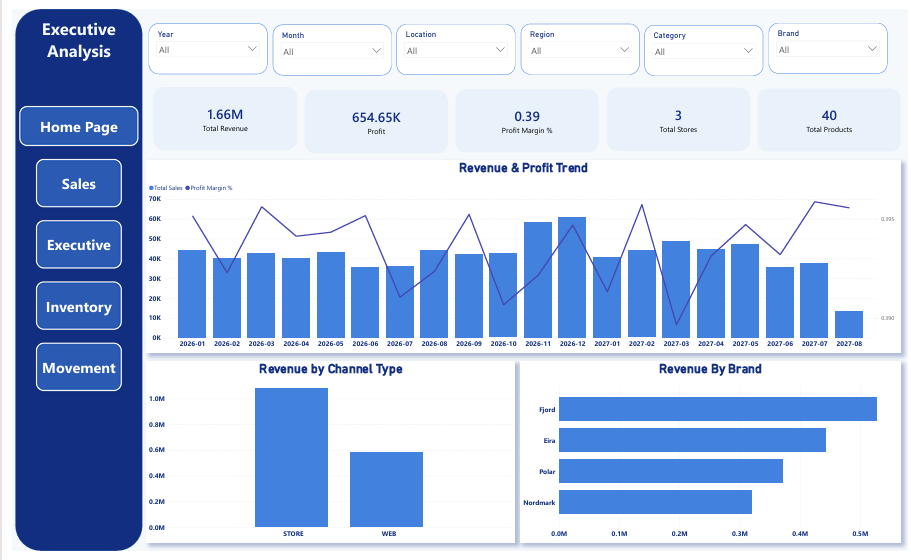

The dashboard page shown, as its layout file describes it:
{"tool":"powerbi","page":{"name":"Executive Analysis ","canvas":[2150,1300],"ordinal":2},"visuals":[{"type":"shape","box":[7.5,0,305,1300],"z":0},{"type":"lineClusteredColumnComboChart","title":"Revenue & Profit Trend","fields":{"Category":["dim_date.Year-Month"],"Y":["Measures_Table.Total Sales"],"Y2":["Measures_Table.Profit Margin %"]},"box":[322.5,362.5,1810,462.5],"z":1000},{"type":"clusteredColumnChart","title":"Revenue by Channel Type","fields":{"Category":["location_master.location_type"],"Y":["Measures_Table.Total Sales"]},"box":[322.5,845,885,435],"z":2000},{"type":"clusteredBarChart","title":"Revenue By Brand","fields":{"Category":["product_master.brand"],"Y":["Measures_Table.Total Revenue"]},"box":[1220,845,912.5,435],"z":3000},{"type":"group","id":"g1","title":"Group 1","box":[327.5,32.5,1772.5,127],"z":4000},{"type":"slicer","fields":{"Values":["location_master.region"]},"box":[1220,34.6,285,122],"z":5000,"group":"g1"},{"type":"group","id":"g2","title":"Group 2","box":[322.5,170,1827,193],"z":5000},{"type":"group","id":"g3","title":"Group 3","box":[7.5,222.5,305,702.5],"z":5001},{"type":"slicer","fields":{"Values":["location_master.location_type"]},"box":[922.5,35.4,285,122],"z":6000,"group":"g1"},{"type":"slicer","fields":{"Values":["product_master.category"]},"box":[1517.5,37.5,285,122],"z":7000,"group":"g1"},{"type":"actionButton","box":[7.5,222.5,305,115],"z":7000,"group":"g3"},{"type":"slicer","fields":{"Values":["product_master.brand"]},"box":[1815,32.5,285,122],"z":8000,"group":"g1"},{"type":"actionButton","box":[47.5,349.4,225,135],"z":8000,"group":"g3"},{"type":"slicer","fields":{"Values":["dim_date.Date.Variation.Date Hierarchy.Year"]},"box":[327.5,33.3,285,122.5],"z":9000,"group":"g1"},{"type":"actionButton","box":[47.5,643.1,225,135],"z":9000,"group":"g3"},{"type":"slicer","fields":{"Values":["dim_date.Date.Variation.Date Hierarchy.Month"]},"box":[625,36.2,285,122.5],"z":10000,"group":"g1"},{"type":"actionButton","box":[47.5,790,225,135],"z":10000,"group":"g3"},{"type":"cardVisual","fields":{"Data":["Measures_Table.Total Revenue"]},"box":[322.5,170,377.5,185],"z":11000,"group":"g2"},{"type":"actionButton","box":[47.5,496.3,225,135],"z":11000,"group":"g3"},{"type":"cardVisual","fields":{"Data":["Measures_Table.Profit"]},"box":[685.4,178,377,185],"z":12000,"group":"g2"},{"type":"cardVisual","fields":{"Data":["Measures_Table.Profit Margin %"]},"box":[1047.7,176,377,185],"z":13000,"group":"g2"},{"type":"cardVisual","fields":{"Data":["Measures_Table.Total Stores"]},"box":[1410.1,172,377,185],"z":14000,"group":"g2"},{"type":"cardVisual","fields":{"Data":["Measures_Table.Total Products"]},"box":[1772.5,174,377,185],"z":15000,"group":"g2"}]}

Visuals, with their boxes in screenshot pixels (x1, y1, x2, y2), scaled from the page's 2150x1300 canvas onto the 911x560 screenshot:
shape: x1=3 y1=0 x2=132 y2=559
"Revenue & Profit Trend" lineClusteredColumnComboChart: x1=137 y1=156 x2=904 y2=355
"Revenue by Channel Type" clusteredColumnChart: x1=137 y1=364 x2=512 y2=551
"Revenue By Brand" clusteredBarChart: x1=517 y1=364 x2=904 y2=551
"Group 1" group: x1=139 y1=14 x2=890 y2=69
slicer - location_master.region: x1=517 y1=15 x2=638 y2=67
"Group 2" group: x1=137 y1=73 x2=910 y2=156
"Group 3" group: x1=3 y1=96 x2=132 y2=398
slicer - location_master.location_type: x1=391 y1=15 x2=512 y2=68
slicer - product_master.category: x1=643 y1=16 x2=764 y2=69
actionButton: x1=3 y1=96 x2=132 y2=145
slicer - product_master.brand: x1=769 y1=14 x2=890 y2=67
actionButton: x1=20 y1=151 x2=115 y2=209
slicer - dim_date.Date.Variation.Date Hierarchy.Year: x1=139 y1=14 x2=260 y2=67
actionButton: x1=20 y1=277 x2=115 y2=335
slicer - dim_date.Date.Variation.Date Hierarchy.Month: x1=265 y1=16 x2=386 y2=68
actionButton: x1=20 y1=340 x2=115 y2=398
cardVisual - Measures_Table.Total Revenue: x1=137 y1=73 x2=297 y2=153
actionButton: x1=20 y1=214 x2=115 y2=272
cardVisual - Measures_Table.Profit: x1=290 y1=77 x2=450 y2=156
cardVisual - Measures_Table.Profit Margin %: x1=444 y1=76 x2=604 y2=156
cardVisual - Measures_Table.Total Stores: x1=597 y1=74 x2=757 y2=154
cardVisual - Measures_Table.Total Products: x1=751 y1=75 x2=910 y2=155
